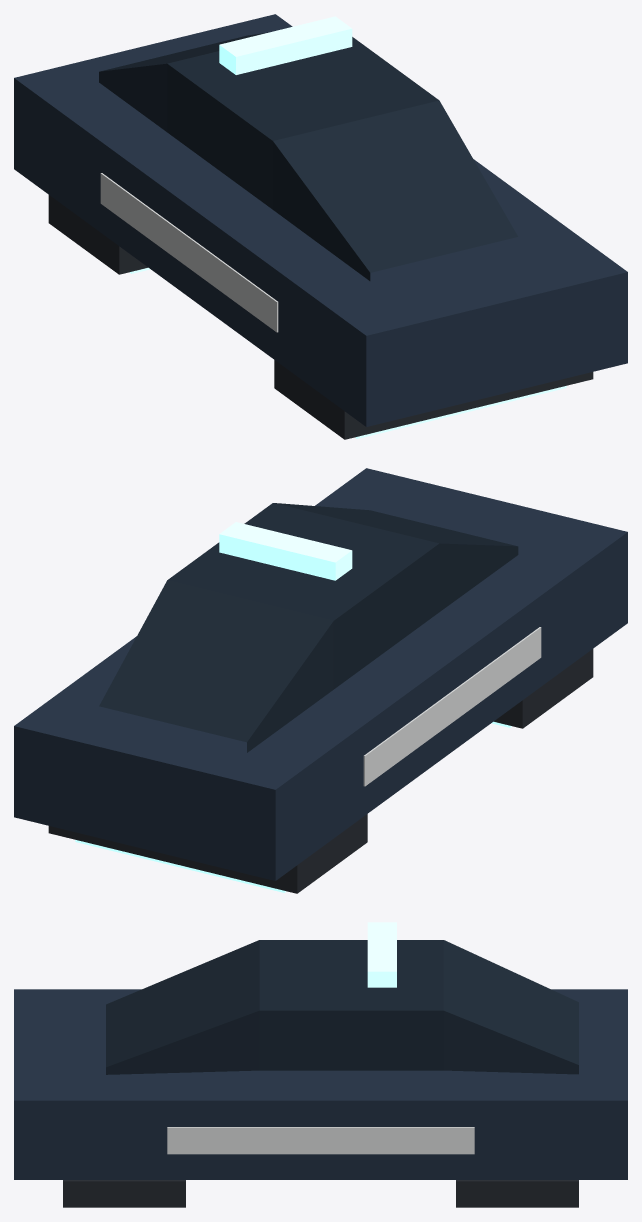
The model's file is veh_ground_police_car_a10_lod1.glb.
3 renders of one model, top to bottom at view 1: azimuth 30°, elevation 25°; view 2: azimuth 150°, elevation 25°; view 3: azimuth 270°, elevation 25°, orthographic. The views are drawn at different scales.
Parts seen in each view (by area): view 1: body; view 2: body; view 3: body.
Part boxes in pixels (box(x1,y1,x2,y2)): body: box(14, 14, 627, 439); body: box(14, 468, 627, 893); body: box(14, 922, 627, 1207).
Size of the model in its own units: 1.82 by 1.63 by 4.2.
